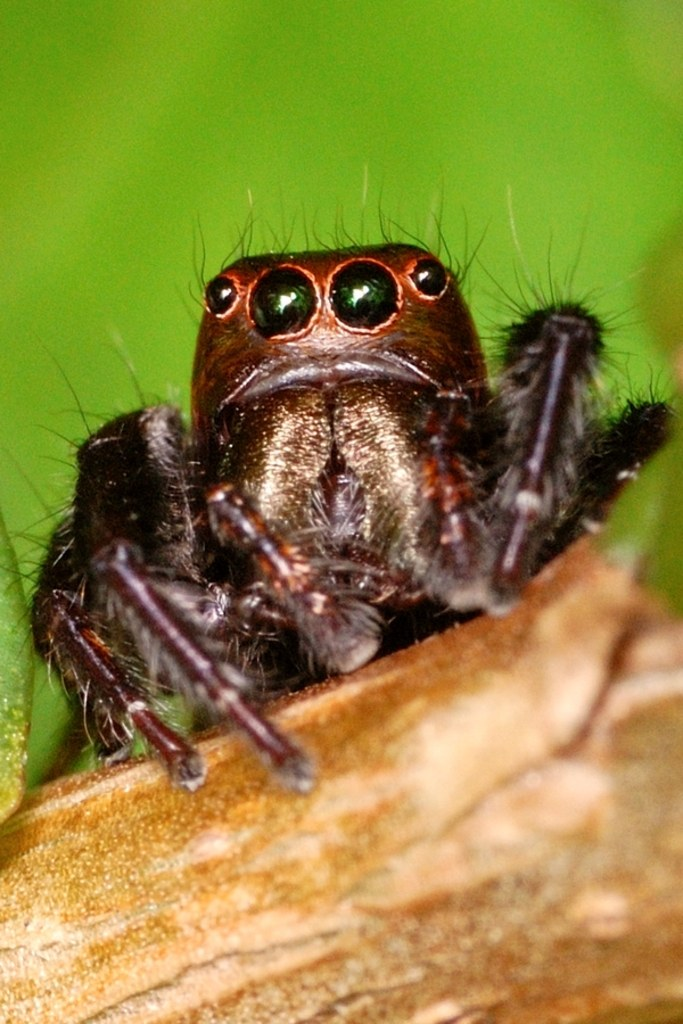insect: (0, 162, 682, 790), (9, 200, 653, 793)
